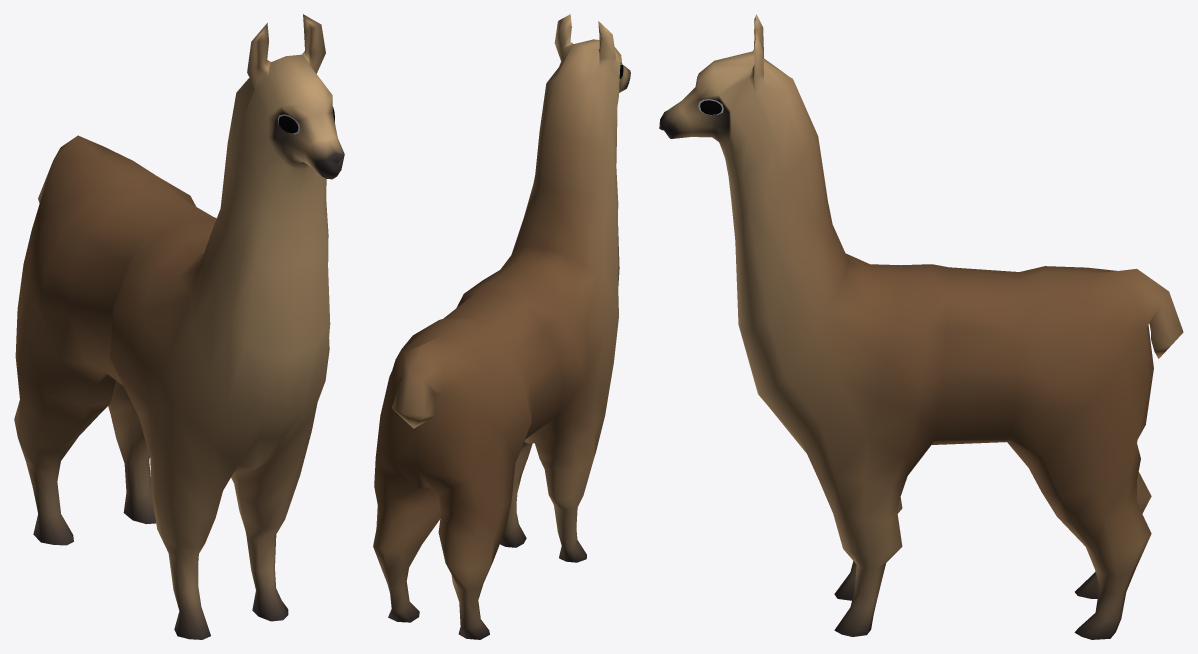
Rendered from animals-animals-llama_v2.glb.
3 views of the same model, side by side, from view 1: azimuth 30°, elevation 25°; view 2: azimuth 150°, elevation 25°; view 3: azimuth 270°, elevation 25° (orthographic). The views are drawn at different scales.
Visible parts, largest first — view 1: Llama_v2; view 2: Llama_v2; view 3: Llama_v2.
Part boxes in pixels (bbox=[...]): Llama_v2: bbox=[14, 14, 344, 639]; Llama_v2: bbox=[373, 14, 630, 639]; Llama_v2: bbox=[659, 14, 1183, 639].
Bounding box in the file's own units: 0.5676 × 1.97 × 1.58.
